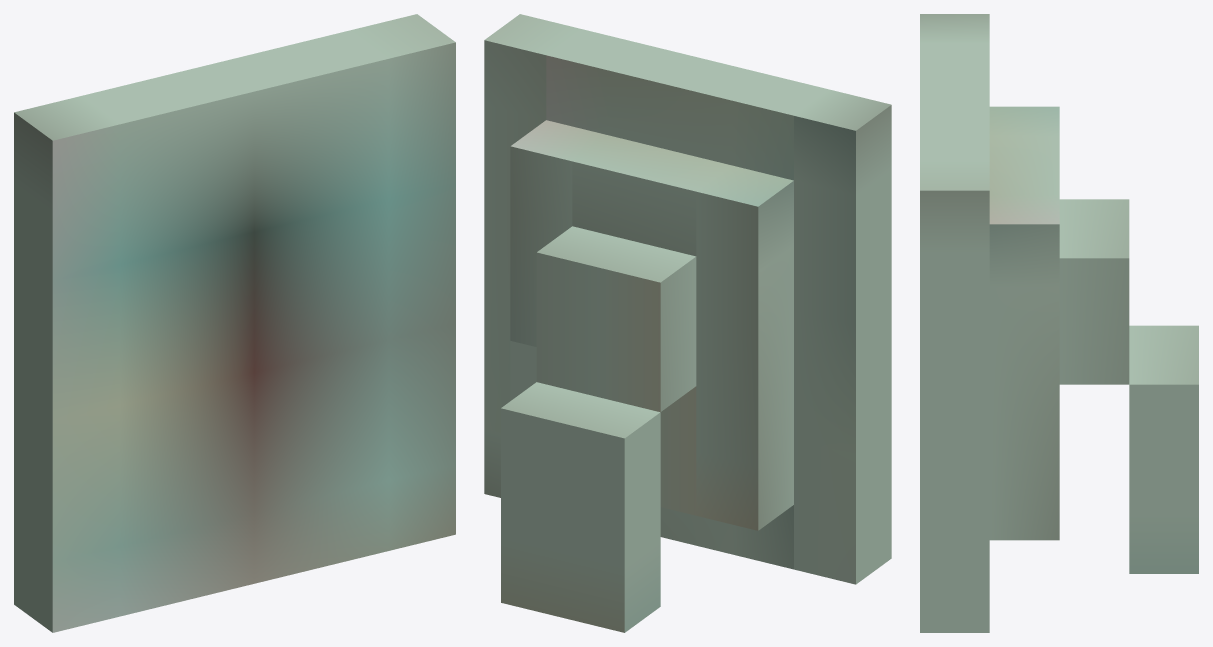
The model's file is PaintingFrameWhite_02.obj.
3 renders of one model, left to right at view 1: azimuth 30°, elevation 25°; view 2: azimuth 150°, elevation 25°; view 3: azimuth 270°, elevation 25°, orthographic. The views are drawn at different scales.
Parts seen in each view (by area): view 1: PaintingFrameWhite_02; view 2: PaintingFrameWhite_02; view 3: PaintingFrameWhite_02.
Boxes of the visible parts, x1,y1,x2,y2 form: PaintingFrameWhite_02: (14,14,455,632); PaintingFrameWhite_02: (484,14,891,632); PaintingFrameWhite_02: (920,14,1198,632).
Size of the model in its own units: 0.3 by 0.35 by 0.2.
